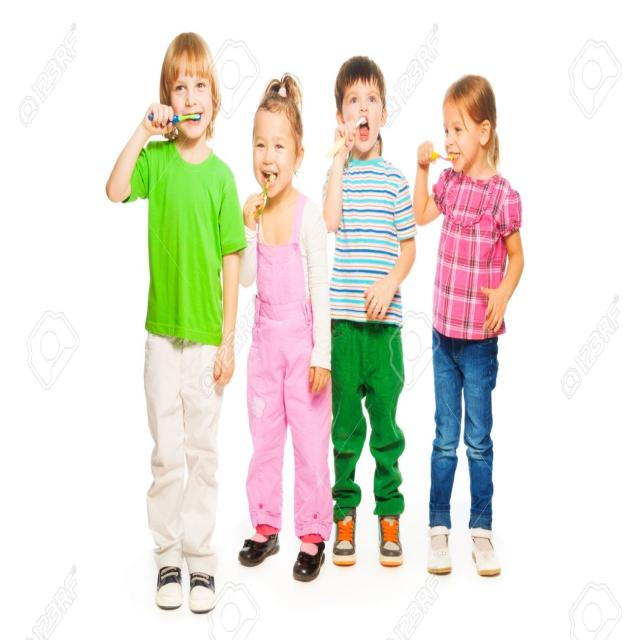child: (101, 31, 250, 617), (411, 70, 528, 582), (236, 67, 332, 582), (320, 55, 416, 570)
